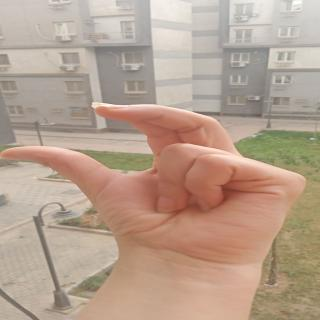DHELL: (0, 100, 317, 235)
